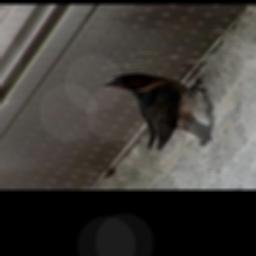Swallow: (104, 73, 218, 150)
